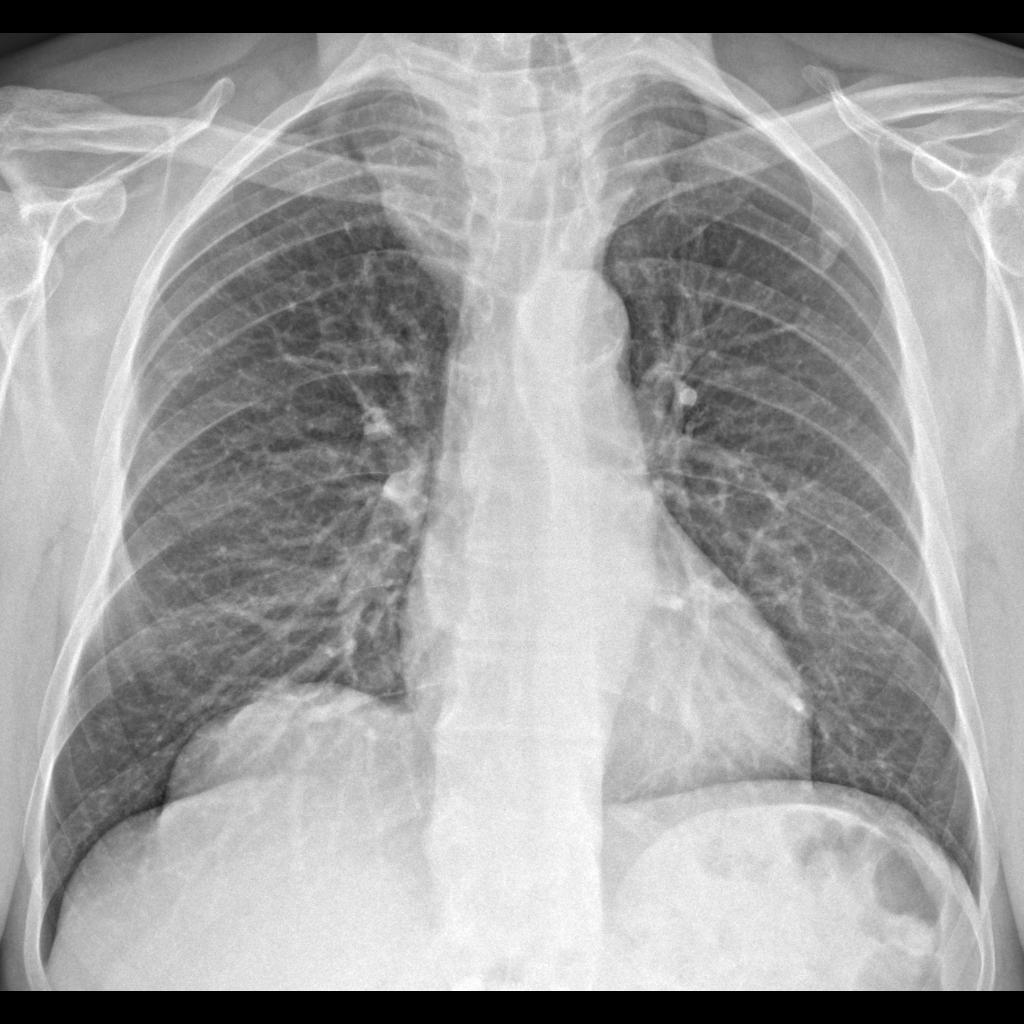Nodule: (813, 224, 848, 279)
